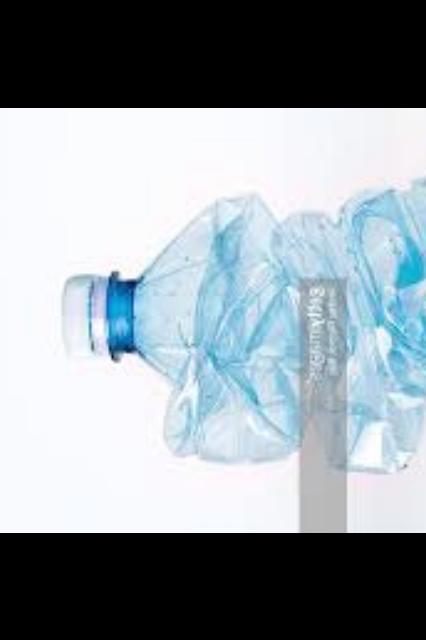plastic: (59, 173, 426, 464)
